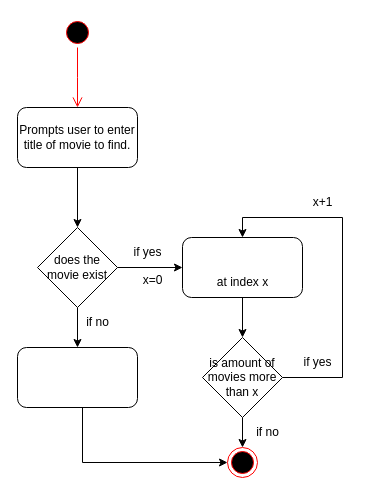
The diagram is 368 pixels wide and 495 high, and some of its shapes have lost their labels. Here are the shapes that lost their labels. From the top down, the box of each, then its label:
(182, 236, 302, 298): prints movie details
(16, 346, 138, 408): prints "Movie not found"
